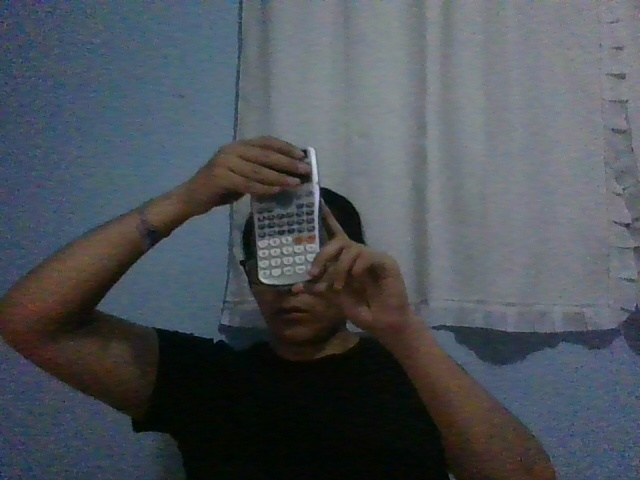calculadora: (250, 145, 324, 287)
